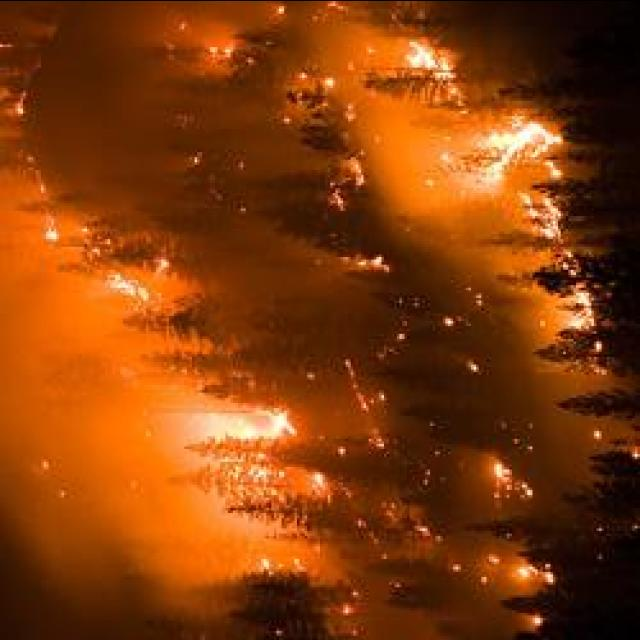fire: (468, 116, 554, 173), (202, 407, 290, 458), (522, 187, 564, 241), (410, 39, 454, 80)
smoke: (1, 468, 247, 622), (64, 388, 188, 492), (136, 499, 254, 588), (2, 266, 96, 374), (61, 0, 171, 62), (452, 449, 496, 507), (496, 295, 540, 337)
